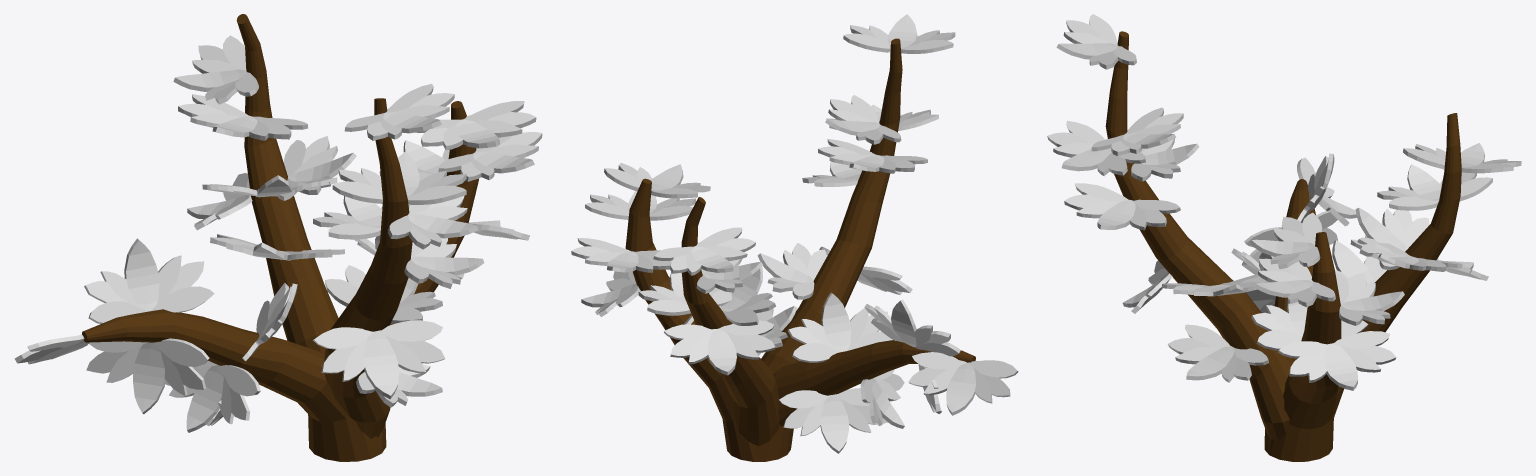
The model's file is Arbusto1Hoja3Otoño.fbx.
3 views of the same model, side by side, from view 1: azimuth 30°, elevation 25°; view 2: azimuth 150°, elevation 25°; view 3: azimuth 270°, elevation 25° (orthographic). The views are drawn at different scales.
Parts seen in each view (by area): view 1: RamasArbusto1Hoja3Otoño; view 2: RamasArbusto1Hoja3Otoño; view 3: RamasArbusto1Hoja3Otoño.
Boxes of the visible parts, bbox=[...] form: RamasArbusto1Hoja3Otoño: bbox=[14, 14, 542, 461]; RamasArbusto1Hoja3Otoño: bbox=[571, 14, 1018, 461]; RamasArbusto1Hoja3Otoño: bbox=[1047, 14, 1521, 461].
Bounding box in the file's own units: 154 × 124 × 138.
